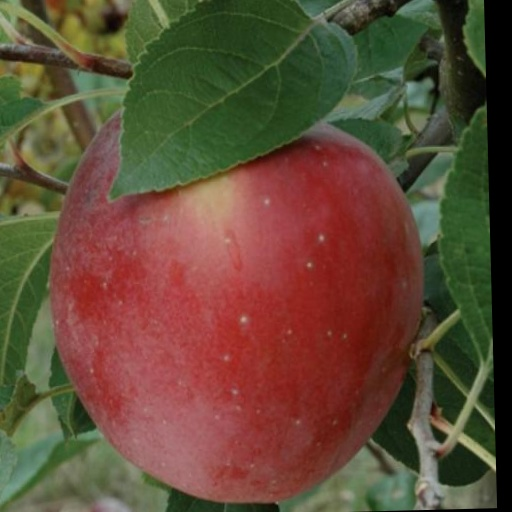fruit: (50, 115, 421, 502)
